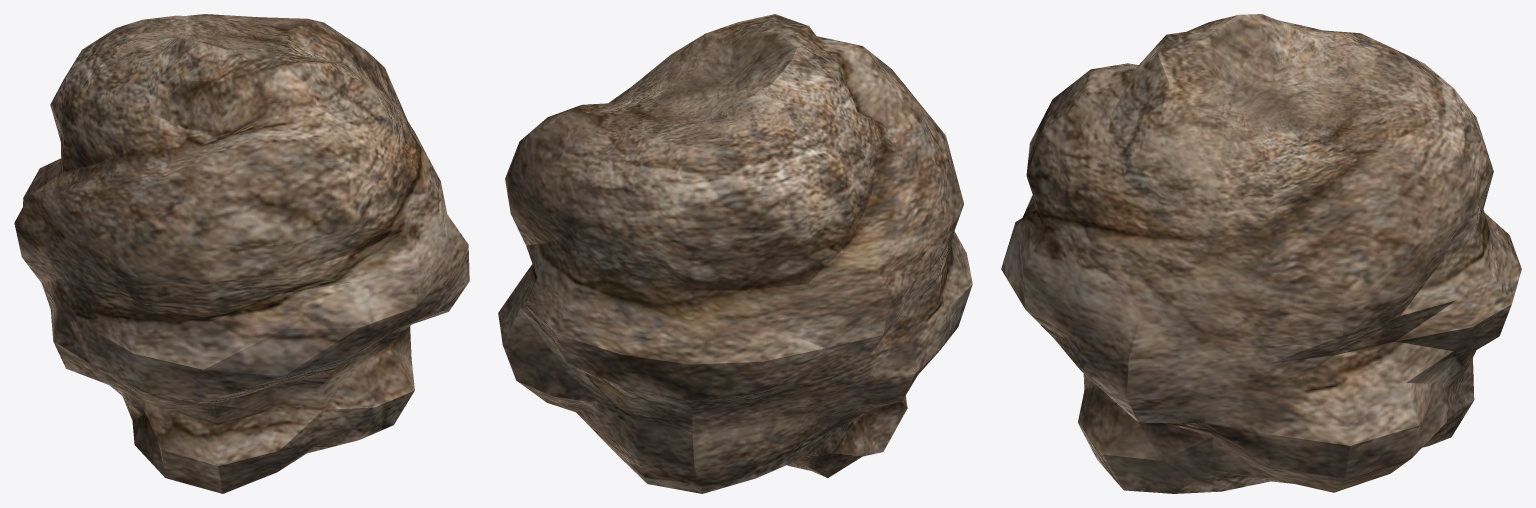
File: RockSmallRound_LOD0.obj
3 renders of one model, left to right at view 1: azimuth 30°, elevation 25°; view 2: azimuth 150°, elevation 25°; view 3: azimuth 270°, elevation 25°, orthographic. The views are drawn at different scales.
Parts seen in each view (by area): view 1: RockSmallRound_LOD0; view 2: RockSmallRound_LOD0; view 3: RockSmallRound_LOD0.
Boxes of the visible parts, x1,y1,x2,y2 form: RockSmallRound_LOD0: [14, 14, 469, 493]; RockSmallRound_LOD0: [498, 14, 972, 493]; RockSmallRound_LOD0: [1001, 14, 1521, 493].
Bounding box in the file's own units: 1.25 × 1.27 × 1.37.
